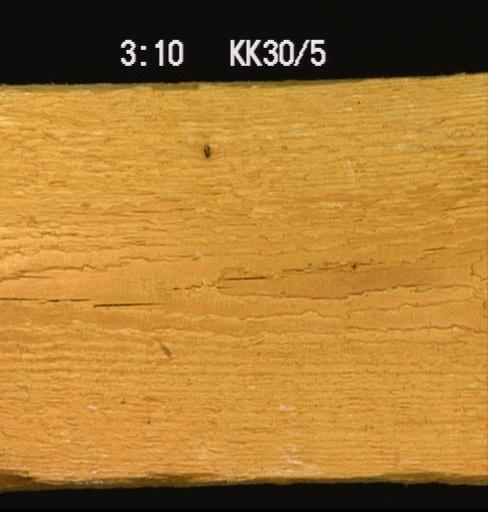small_knot: (196, 137, 215, 159)
split: (222, 250, 381, 284), (0, 283, 166, 313), (411, 236, 474, 257)
wave: (0, 462, 234, 491), (1, 78, 263, 94), (319, 462, 486, 481)
